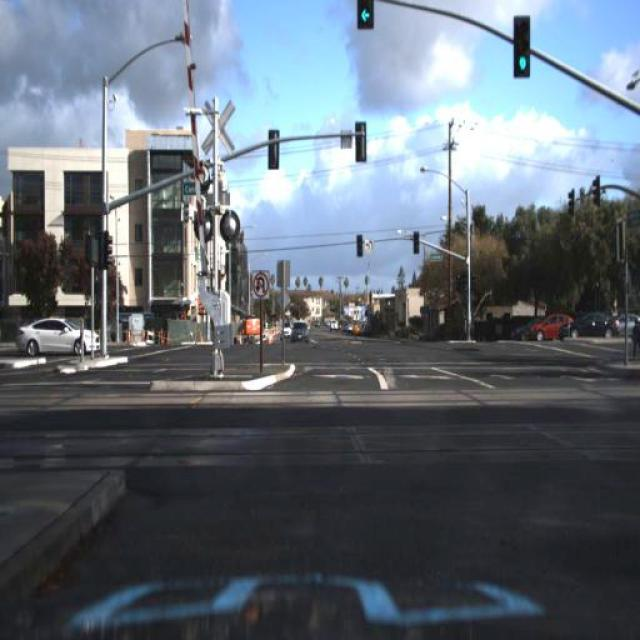semaforo: (514, 14, 530, 79)
